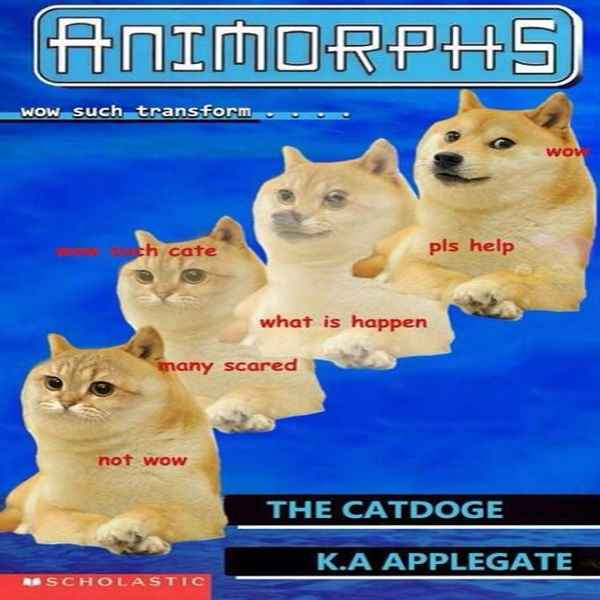doge: (411, 95, 587, 213), (252, 144, 401, 261)
